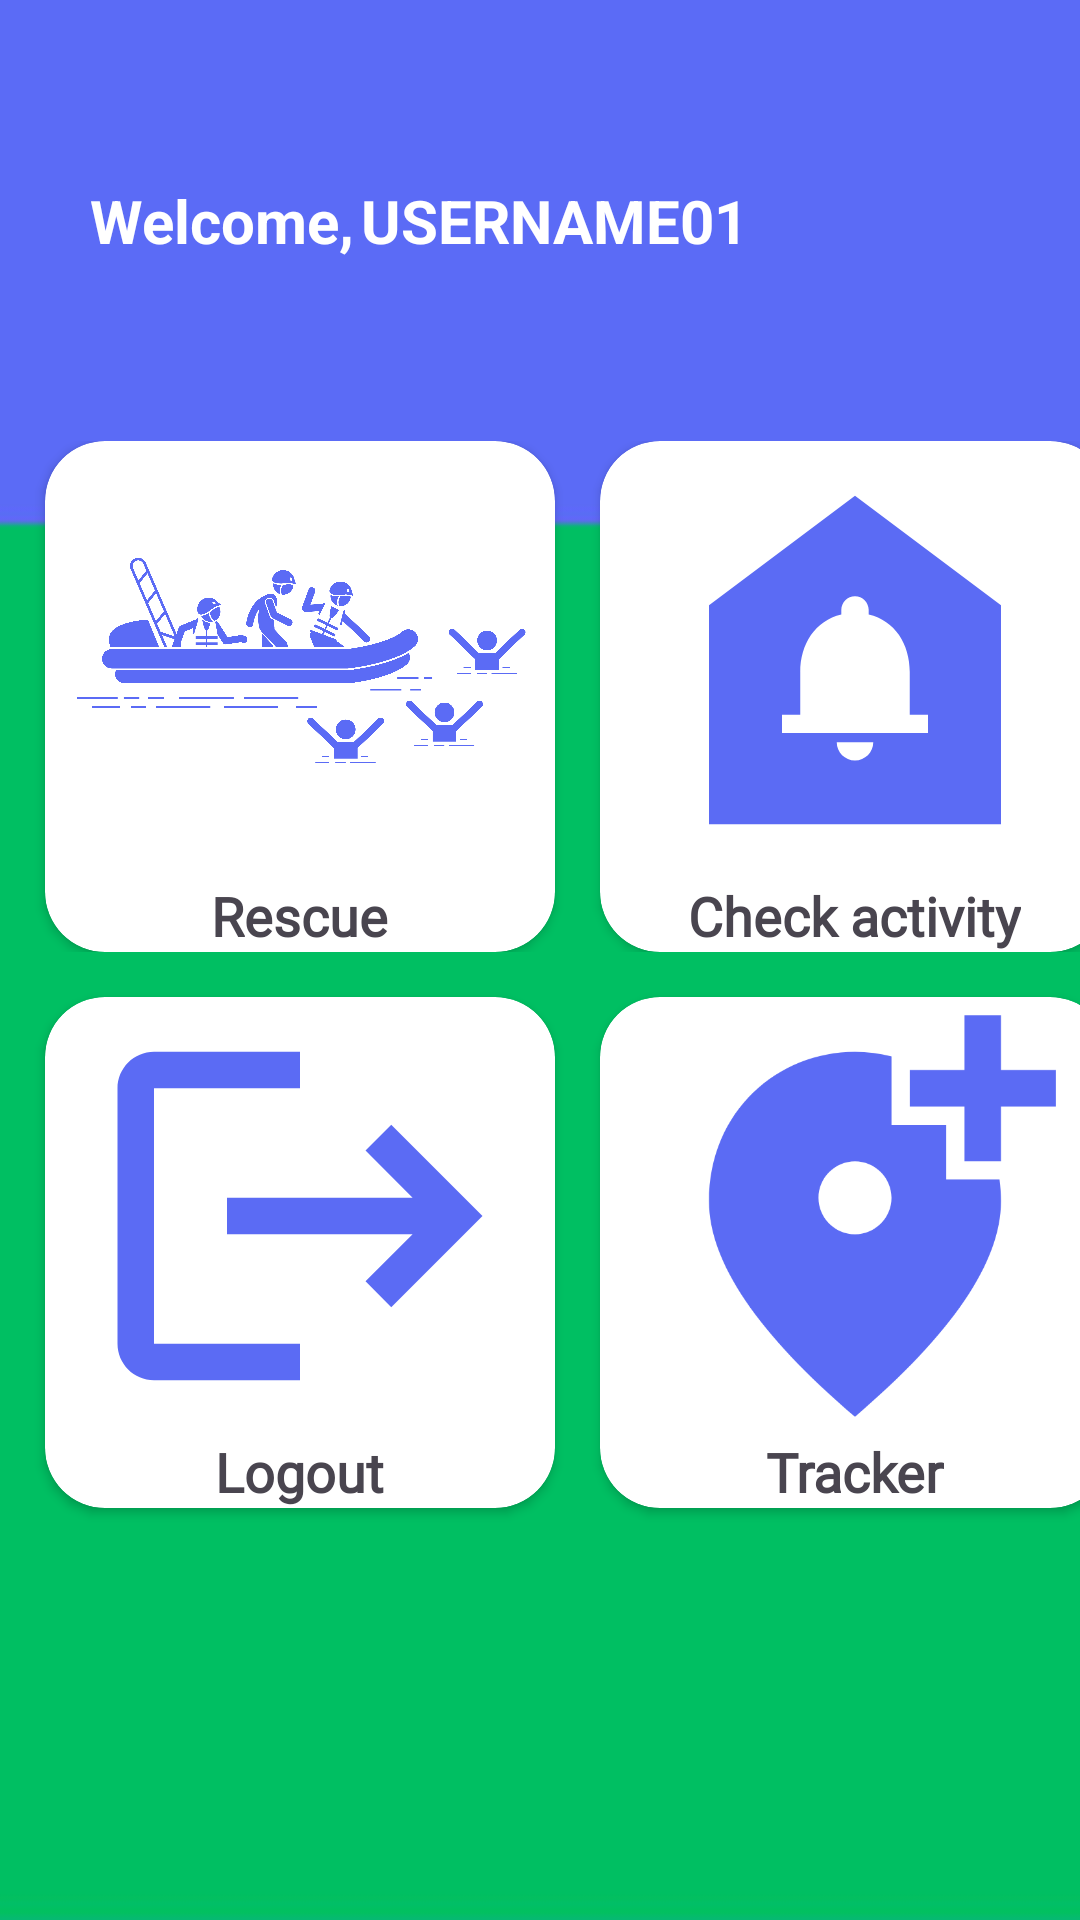

Locate icon controls on the screen. Image size 1080x1920, boxes as (x1, y1, x2, y2).
doorbell: (709, 496, 1001, 825)
